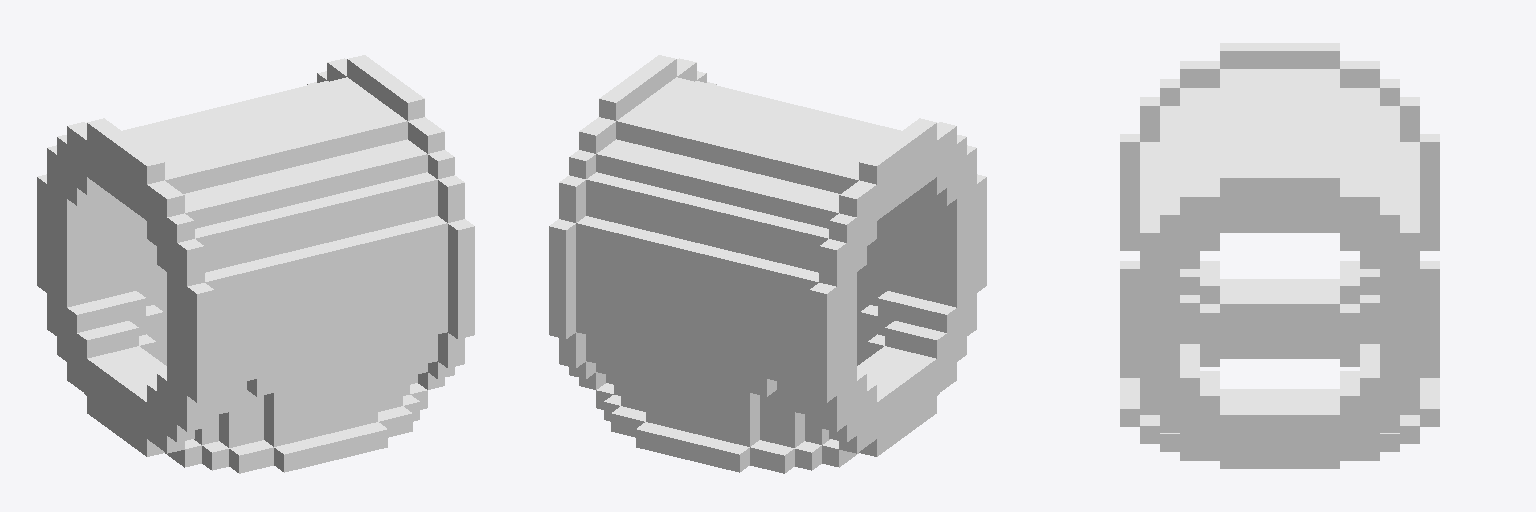
Rendered from pipe004(16,16,16).obj.
3 renders of one model, left to right at view 1: azimuth 30°, elevation 25°; view 2: azimuth 150°, elevation 25°; view 3: azimuth 270°, elevation 25°, orthographic.
Size of the model in its own units: 16 by 16 by 16.